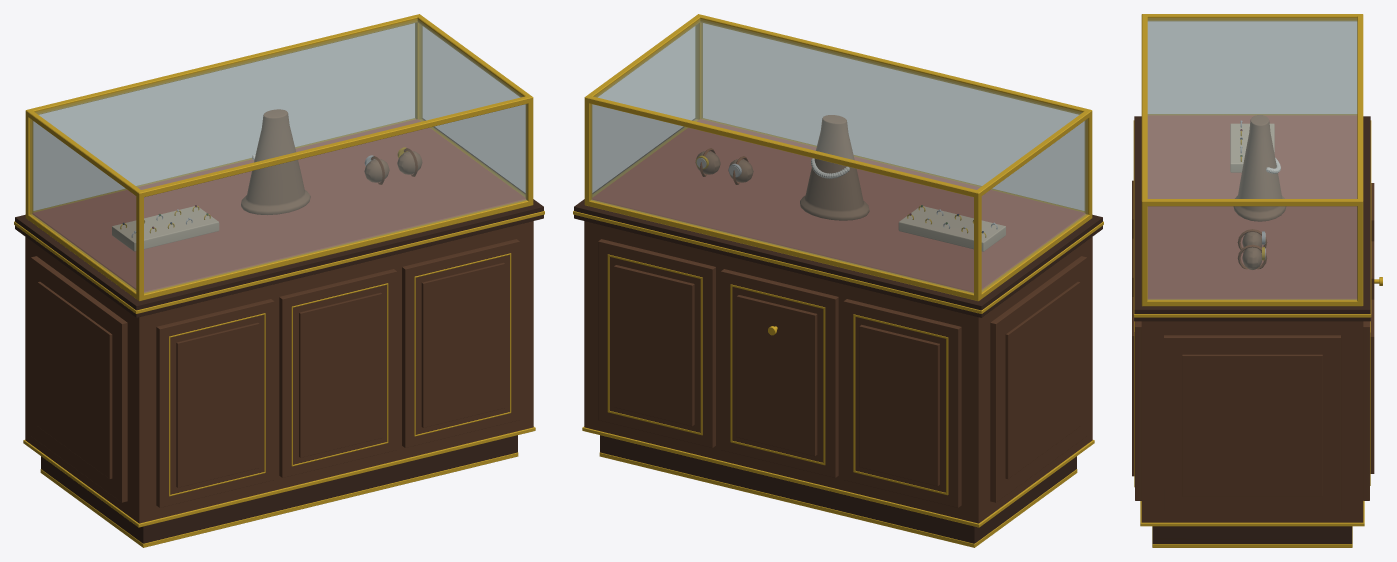
File: prop_display_case_island.glb
3 renders of one model, left to right at view 1: azimuth 30°, elevation 25°; view 2: azimuth 150°, elevation 25°; view 3: azimuth 270°, elevation 25°, orthographic. The views are drawn at different scales.
Visible parts, largest first — view 1: Body, Glass, Display; view 2: Body, Glass, Display; view 3: Body, Glass, Display.
Part boxes in pixels (x1,y1,x2,y2): Body: (14, 14, 544, 547); Glass: (30, 19, 527, 293); Display: (112, 109, 422, 251); Body: (573, 14, 1103, 547); Glass: (590, 19, 1087, 293); Display: (695, 115, 1005, 251); Body: (1132, 14, 1382, 547); Glass: (1147, 18, 1357, 299); Display: (1230, 115, 1285, 269).
Size of the model in its own units: 1.25 by 1.05 by 0.679.
